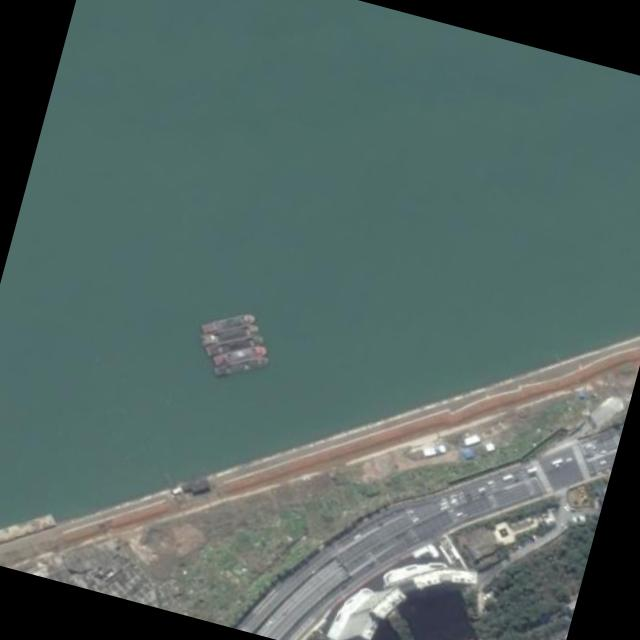ship: (202, 334, 259, 355), (212, 354, 264, 376), (198, 323, 255, 343), (197, 312, 252, 332), (212, 344, 263, 364)
